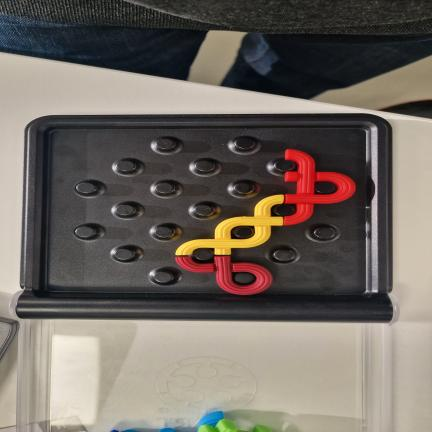A_Yellow: (176, 195, 283, 255)
E_Red: (284, 150, 355, 225)
J_DarkRed: (176, 256, 272, 295)
board: (16, 114, 395, 322)
hinge: (9, 292, 408, 327)
pin: (271, 204, 295, 217), (231, 226, 255, 239), (234, 137, 256, 151), (313, 227, 336, 240), (233, 181, 254, 194), (273, 249, 294, 262), (114, 248, 135, 261), (153, 271, 174, 284), (315, 182, 337, 194), (234, 272, 256, 284), (156, 138, 176, 151), (274, 159, 294, 172), (116, 160, 136, 173), (115, 204, 136, 216), (75, 226, 96, 238), (155, 226, 174, 239), (195, 160, 215, 172), (76, 182, 96, 194), (155, 182, 175, 194), (194, 204, 214, 216), (194, 248, 213, 260)
